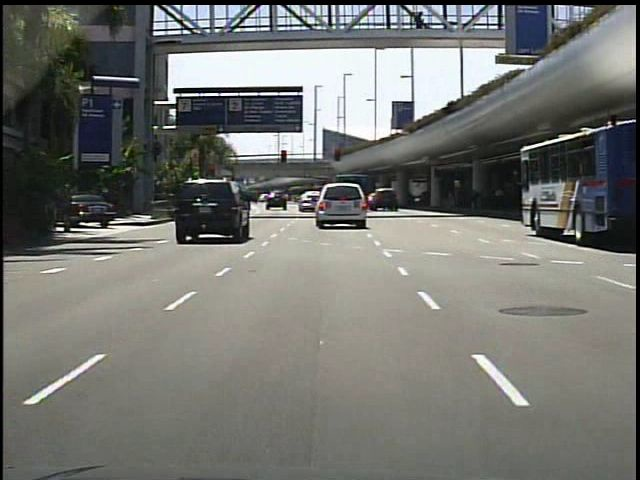person: (410, 11, 429, 41)
